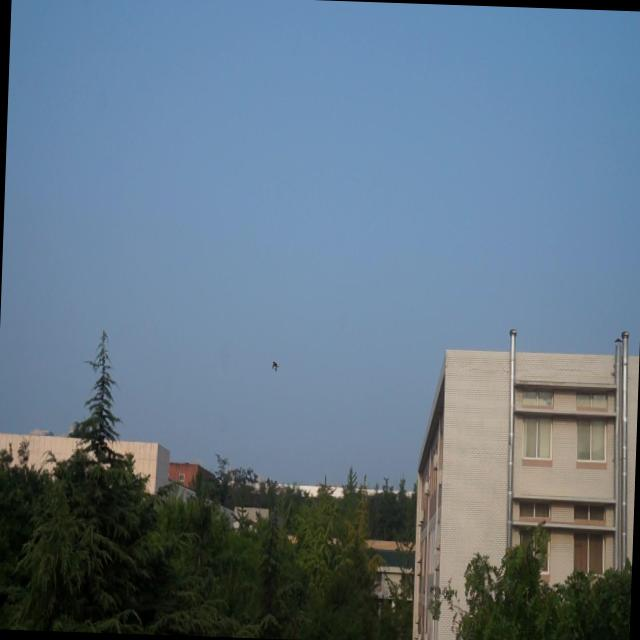drone: (268, 356, 282, 377)
